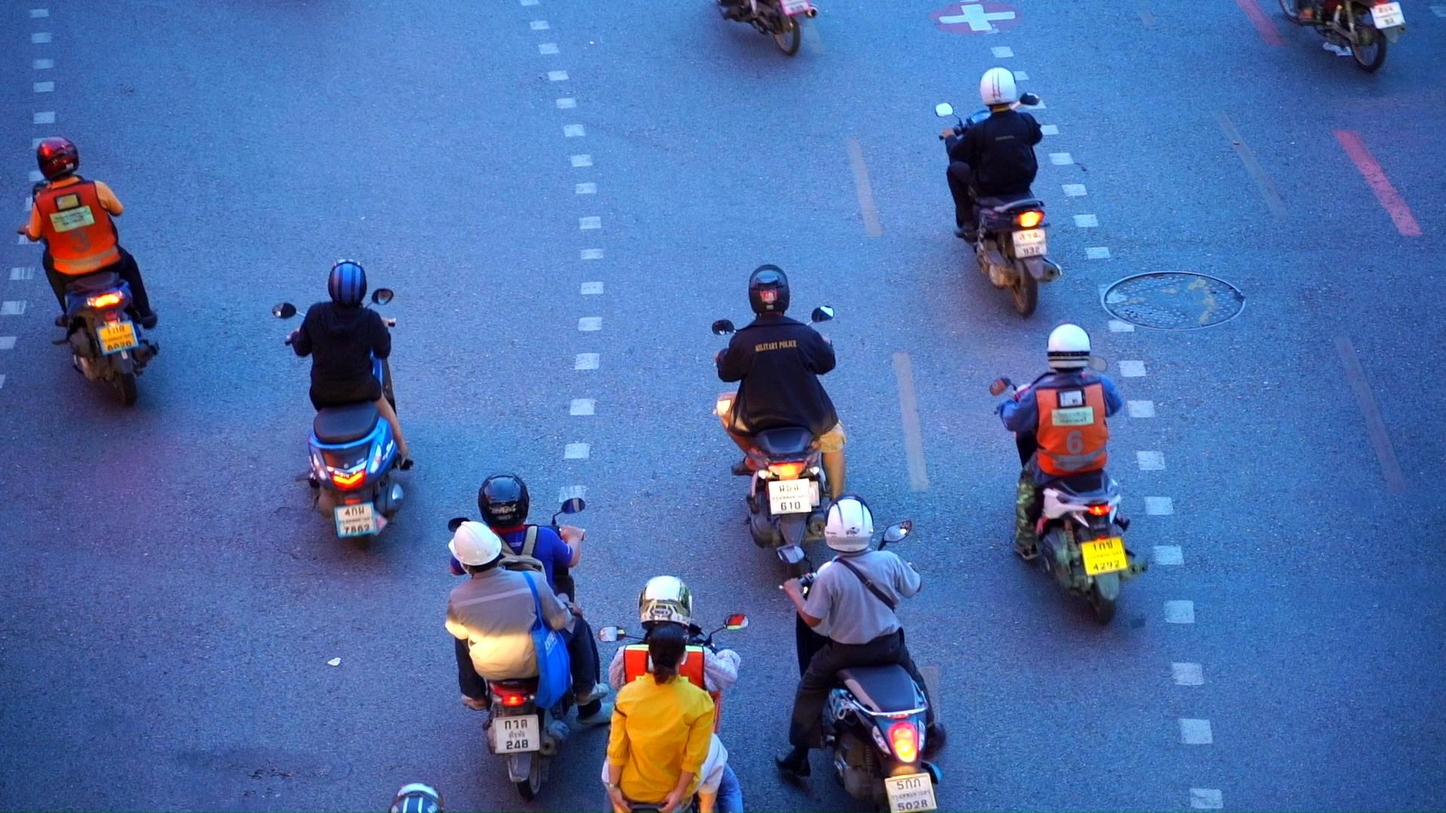driver: (448, 472, 617, 803), (776, 494, 946, 813), (989, 319, 1141, 626), (711, 264, 849, 578), (272, 258, 414, 553), (16, 137, 160, 406), (597, 574, 750, 813), (934, 66, 1063, 318), (1278, 0, 1406, 73)
helmet: (637, 575, 693, 631), (823, 495, 875, 553), (448, 521, 502, 575), (478, 472, 529, 529), (1047, 319, 1092, 374), (748, 264, 790, 317), (328, 259, 367, 308), (36, 137, 79, 181), (389, 783, 446, 813), (980, 66, 1017, 111)
no-helmet: (648, 623, 688, 686)
